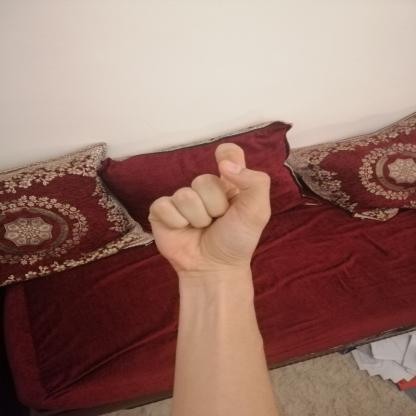FAA: (134, 135, 289, 284)
